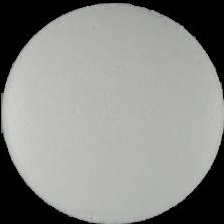68788-9823: (0, 0, 224, 224)
